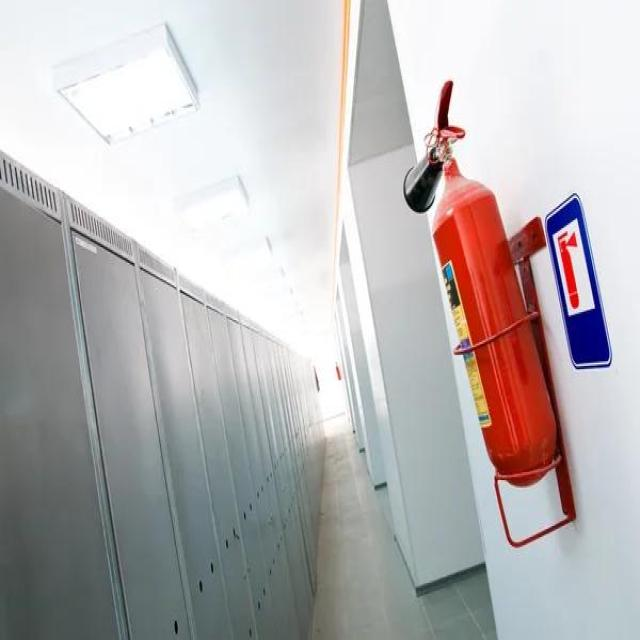fire_extinguisher: (399, 73, 563, 486)
